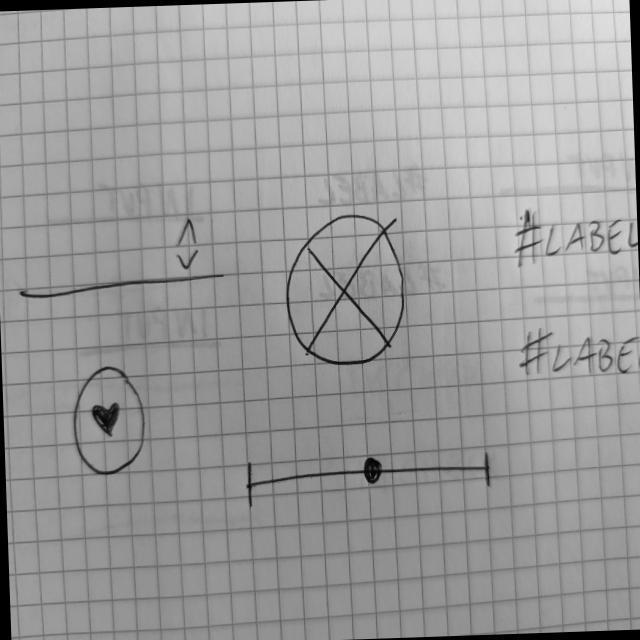icon-button: (69, 363, 150, 479)
image: (282, 211, 409, 371)
label: (509, 199, 639, 273)
number-input: (15, 211, 227, 302)
slider: (242, 448, 498, 509)
